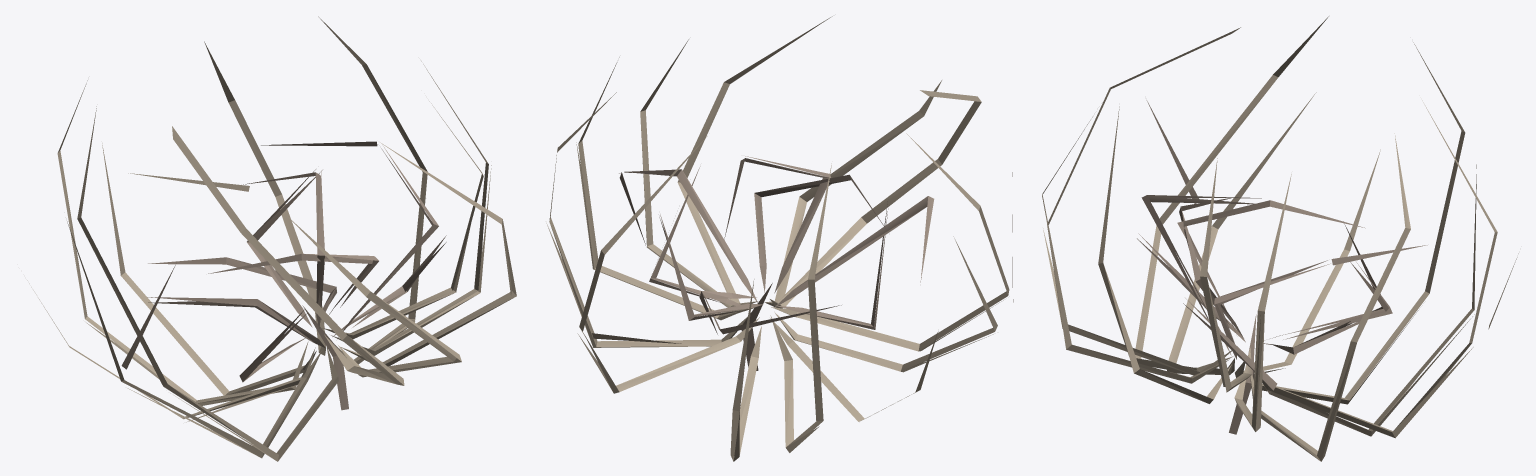
Rendered from weed.lod.glb.
3 renders of one model, left to right at view 1: azimuth 30°, elevation 25°; view 2: azimuth 150°, elevation 25°; view 3: azimuth 270°, elevation 25°, orthographic.
Visible parts, largest first — view 1: weed; view 2: weed; view 3: weed.
Boxes of the visible parts, box(x1,y1,x2,y2) form: weed: box(27, 16, 516, 461); weed: box(546, 16, 1013, 461); weed: box(1042, 16, 1518, 461).
Bounding box in the file's own units: 0.8935 × 0.7187 × 0.8825.
